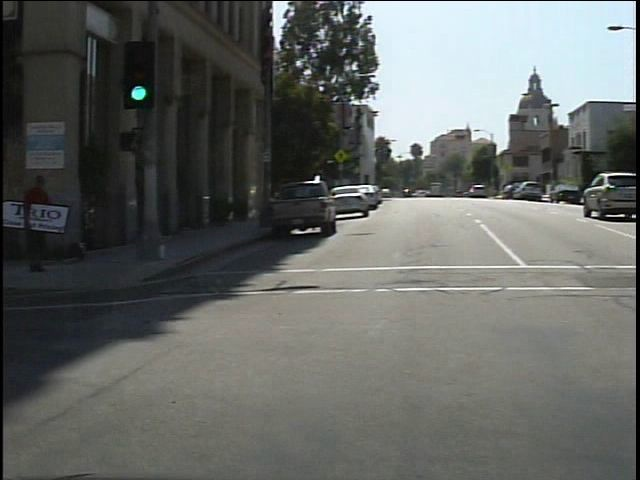person: (17, 161, 63, 281)
